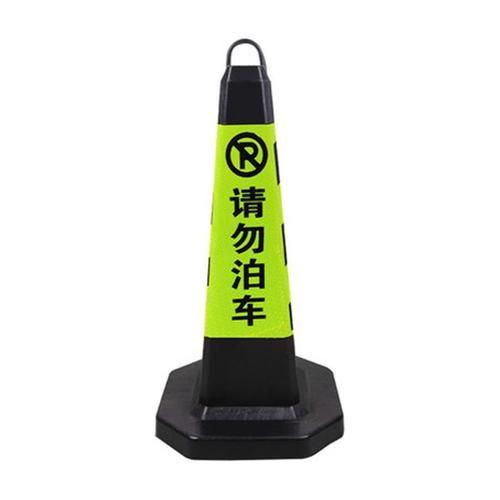cone_barrel: (171, 31, 321, 441)
